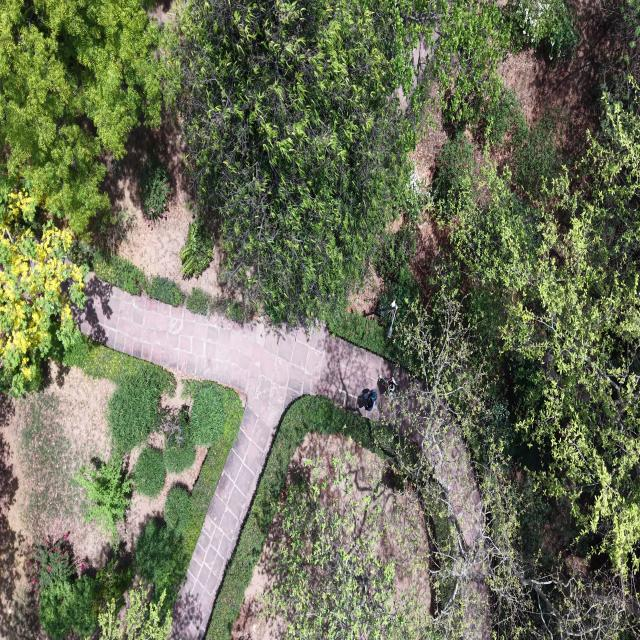DRY_AREA: (83, 279, 392, 639), (0, 362, 114, 639), (0, 363, 113, 638), (287, 432, 430, 615), (94, 115, 224, 297), (3, 365, 114, 566), (412, 406, 492, 639), (498, 0, 614, 159), (118, 446, 208, 549)
PATHWAYS: (79, 277, 393, 639)
VEGETATION_TREE: (164, 0, 639, 638), (379, 74, 639, 638), (381, 78, 639, 638), (163, 2, 572, 319), (165, 0, 512, 321), (437, 95, 639, 571), (377, 269, 637, 638), (168, 0, 426, 321), (500, 90, 639, 574), (0, 0, 161, 395), (376, 266, 521, 637), (30, 388, 242, 639), (388, 437, 637, 639), (206, 396, 383, 639), (0, 0, 161, 234), (264, 459, 428, 639), (416, 2, 576, 185), (473, 466, 637, 639), (64, 336, 237, 494), (134, 381, 242, 610), (0, 172, 84, 396), (326, 187, 429, 368), (16, 390, 129, 543), (18, 391, 131, 537), (396, 269, 486, 432), (30, 537, 171, 639), (63, 335, 175, 455), (426, 0, 509, 130), (182, 387, 242, 556), (17, 393, 80, 538), (72, 242, 185, 306), (31, 536, 97, 639), (374, 219, 424, 323), (135, 520, 190, 610), (109, 366, 166, 452), (76, 455, 132, 541), (98, 581, 172, 639), (512, 118, 563, 200), (508, 0, 577, 60), (327, 310, 403, 363), (38, 576, 96, 639), (0, 434, 21, 602), (432, 133, 480, 205), (602, 0, 639, 92), (477, 87, 524, 147), (83, 253, 147, 295), (181, 287, 254, 323), (93, 555, 133, 619), (32, 536, 76, 592), (190, 384, 225, 446), (180, 216, 215, 277), (161, 411, 195, 473), (92, 210, 136, 256), (140, 158, 170, 221), (5, 591, 40, 639), (133, 447, 166, 497), (164, 486, 191, 535), (145, 276, 184, 306), (163, 441, 195, 473), (219, 299, 255, 323), (185, 287, 212, 315)
